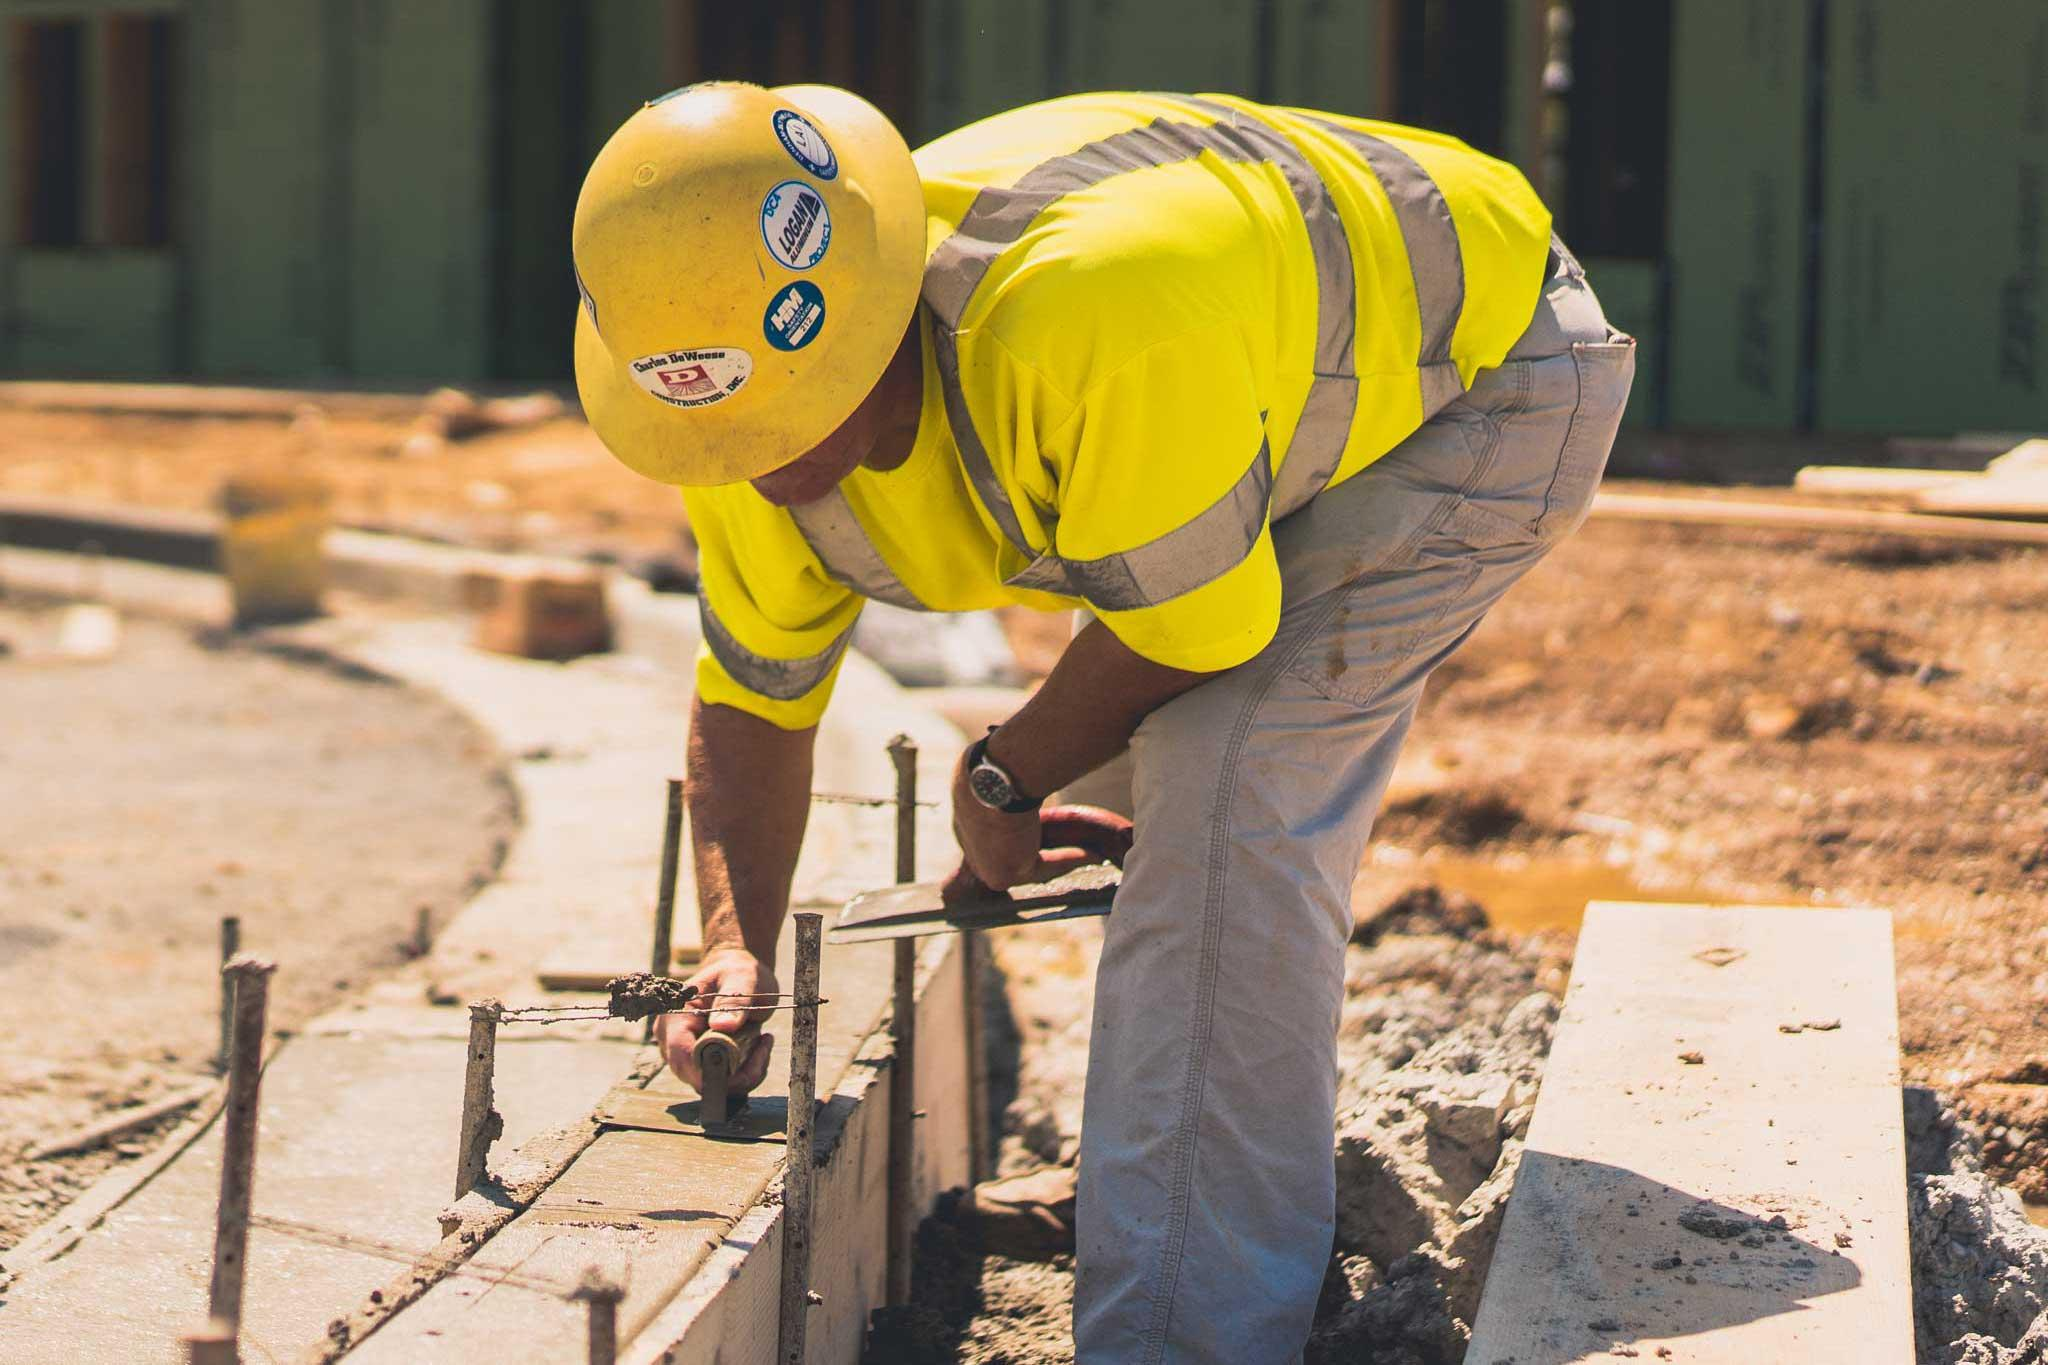helmet: (566, 75, 924, 489)
